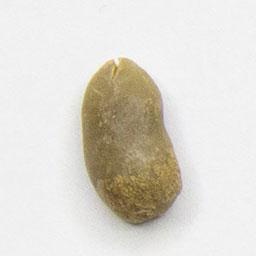longberry: (77, 53, 186, 229)
